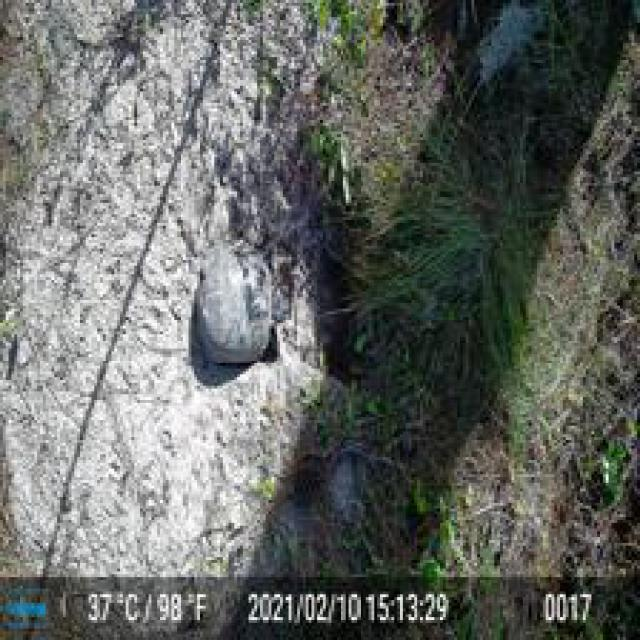tortoise: (195, 240, 292, 377)
